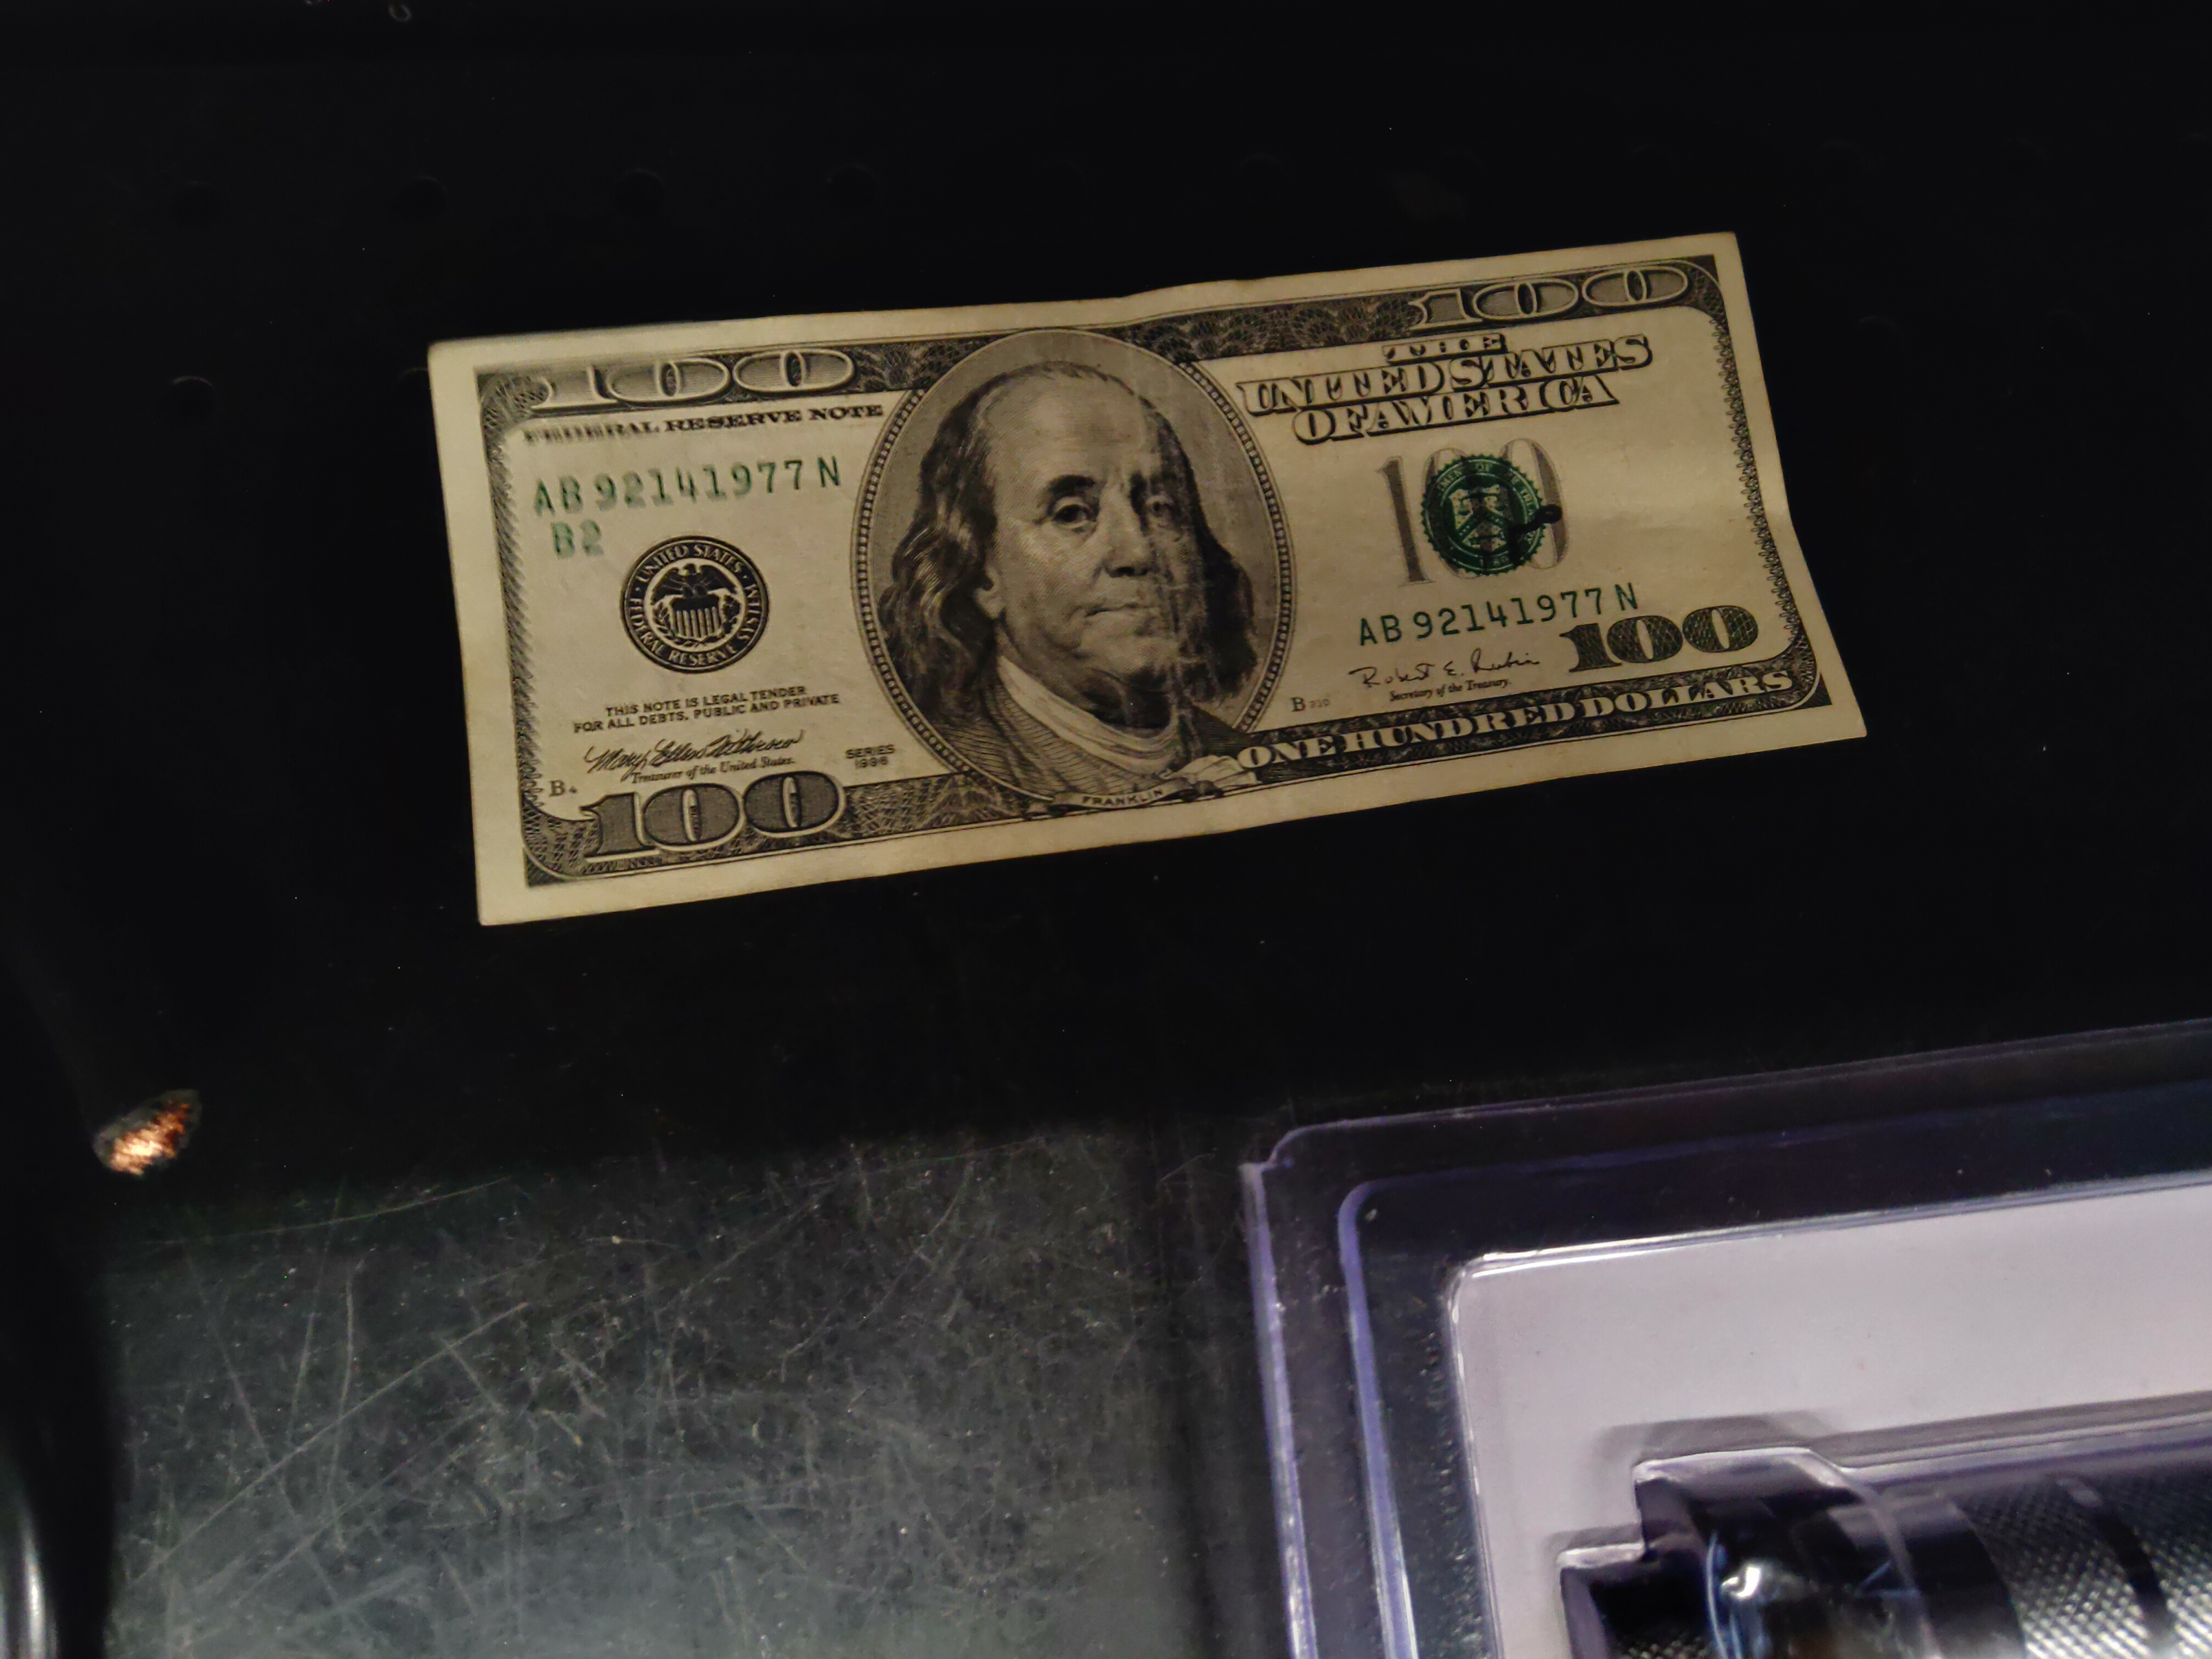HundredBill: (425, 227, 1874, 929)
